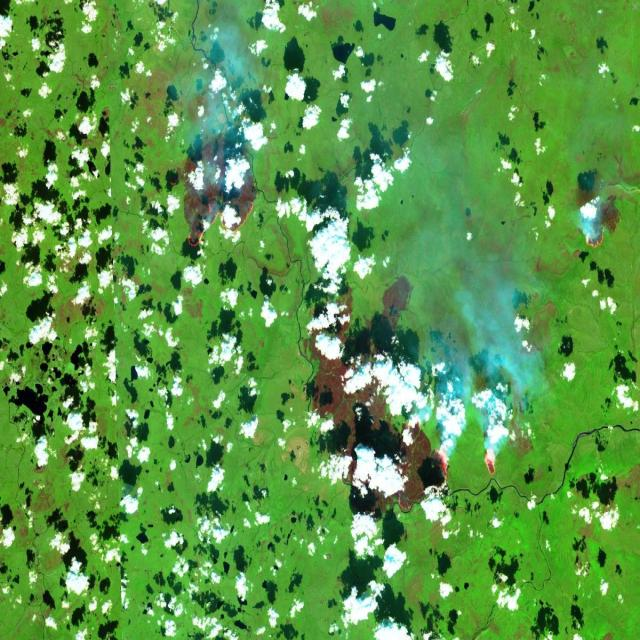fire: (390, 409, 507, 502), (165, 147, 257, 247), (581, 191, 622, 256)
